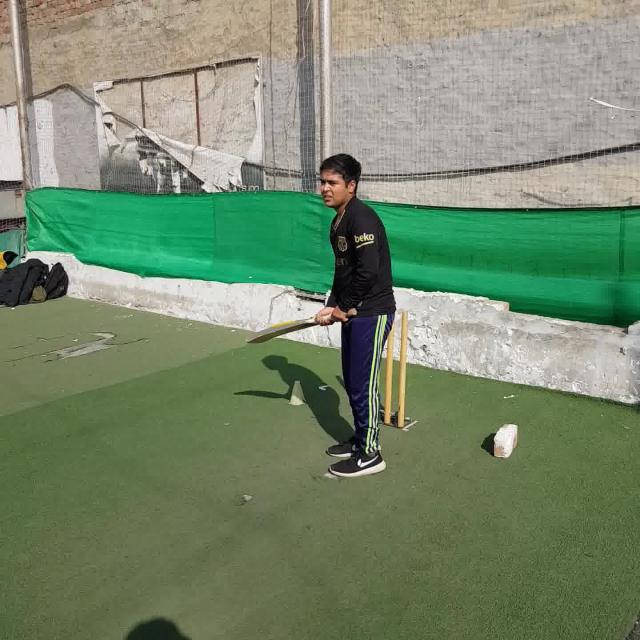bat: (246, 308, 356, 343)
